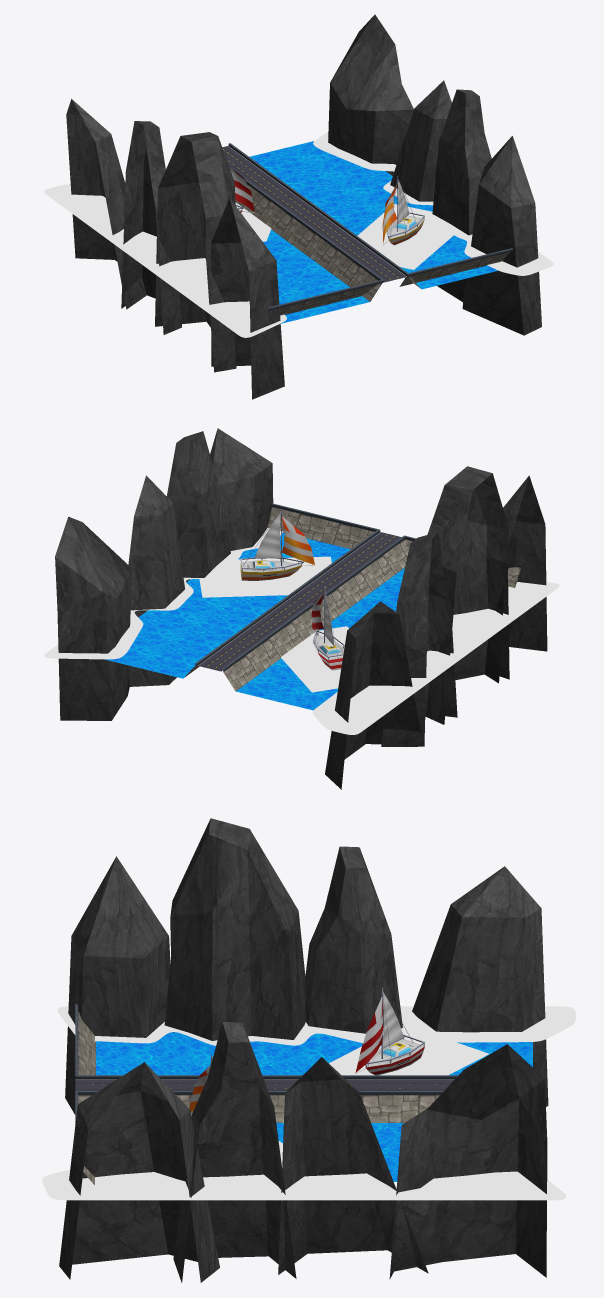
The model's file is City_11.fbx.
3 views of the same model, one above another, from view 1: azimuth 30°, elevation 25°; view 2: azimuth 150°, elevation 25°; view 3: azimuth 270°, elevation 25° (orthographic). The views are drawn at different scales.
Parts seen in each view (by area): view 1: City_11; view 2: City_11; view 3: City_11.
Boxes of the visible parts, left/top/right/bottom form: City_11: left=44, top=14, right=553, bottom=399; City_11: left=44, top=428, right=559, bottom=789; City_11: left=42, top=818, right=575, bottom=1282.
Bounding box in the file's own units: 22617 × 13384 × 25170.
